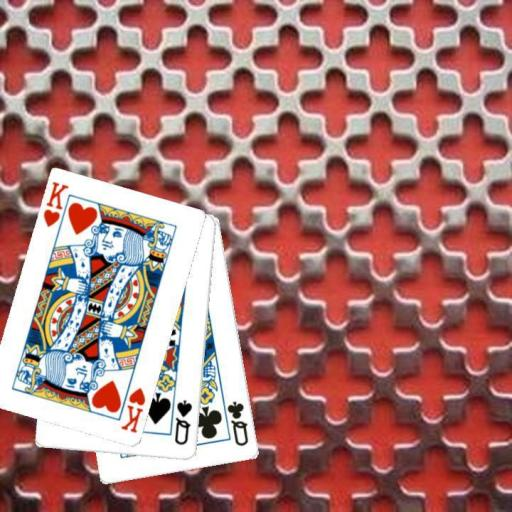card-corner: (40, 179, 70, 229), (118, 385, 147, 435), (225, 398, 250, 448), (172, 396, 194, 446)
